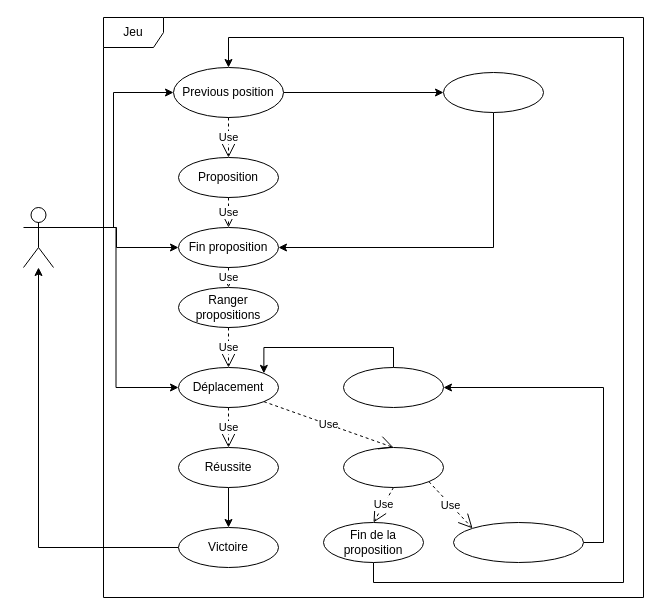
Some shapes in this 661 by 615 pixel diagram are drawn without their labels. Each missing label, with the centre of its shape:
"Chronomètre" goes at point (493, 92).
"Continuation de la proposition" goes at point (518, 542).
"Joueur + 1" goes at point (393, 387).
"Joueurs" goes at point (38, 237).
"Échec" goes at point (393, 467).
